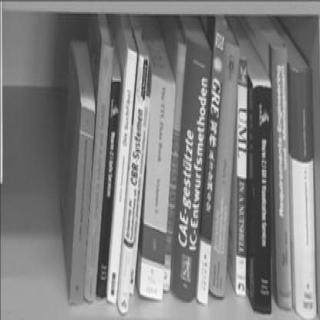book-spine: (169, 36, 213, 299), (196, 18, 227, 304), (138, 73, 176, 300), (208, 40, 240, 296), (117, 54, 148, 312), (106, 48, 137, 304), (83, 42, 113, 300), (290, 64, 317, 318), (161, 41, 186, 289), (271, 45, 292, 309), (96, 79, 121, 297), (68, 104, 95, 305), (129, 96, 150, 294), (253, 85, 271, 313), (236, 57, 247, 296)
